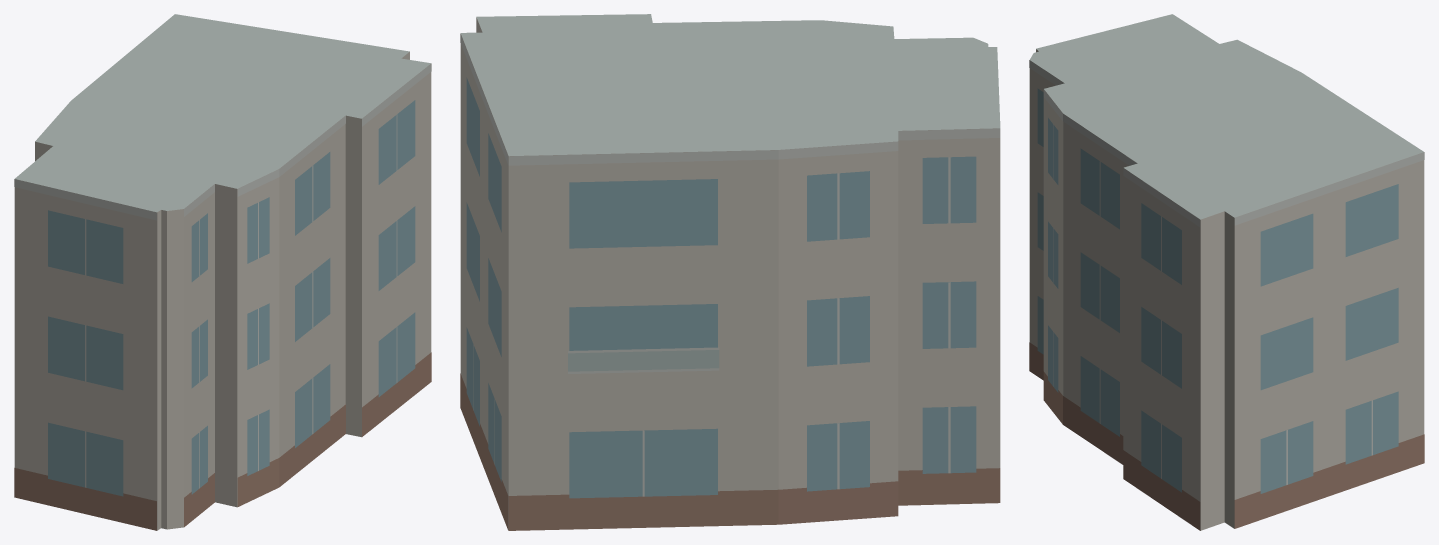
File: survey-upis-32517855.glb
3 views of the same model, side by side, from view 1: azimuth 30°, elevation 25°; view 2: azimuth 150°, elevation 25°; view 3: azimuth 270°, elevation 25° (orthographic). The views are drawn at different scales.
Parts seen in each view (by area): view 1: survey-upis-32517855.tmp; view 2: survey-upis-32517855.tmp; view 3: survey-upis-32517855.tmp.
Boxes of the visible parts, x1=… form: survey-upis-32517855.tmp: x1=14, y1=14, x2=431, y2=530; survey-upis-32517855.tmp: x1=460, y1=14, x2=1000, y2=530; survey-upis-32517855.tmp: x1=1029, y1=14, x2=1424, y2=530.
Size of the model in its own units: 13.47 by 9.5 by 10.93.
